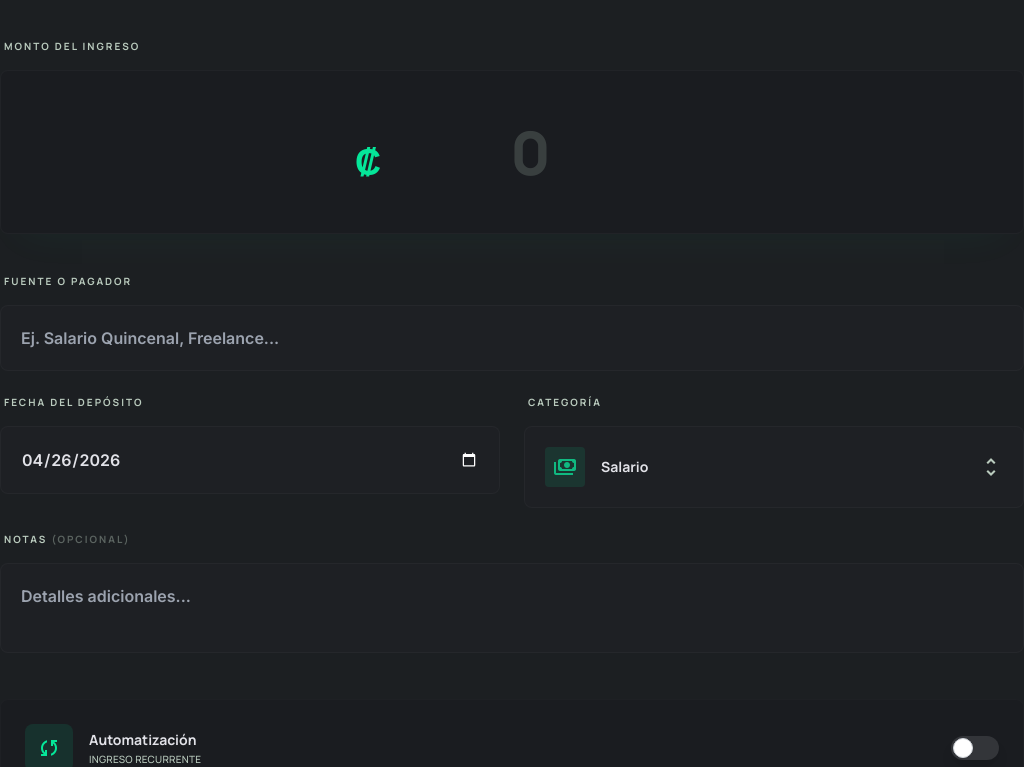
IncomeRegistrationForm.vue › shows recurrence fields when toggle is on
This screenshot has width=1024, height=767.
Click the checkbox with test id "income-recurring-toggle" at (975, 748), box [951,736,999,760]
(page scrolled)
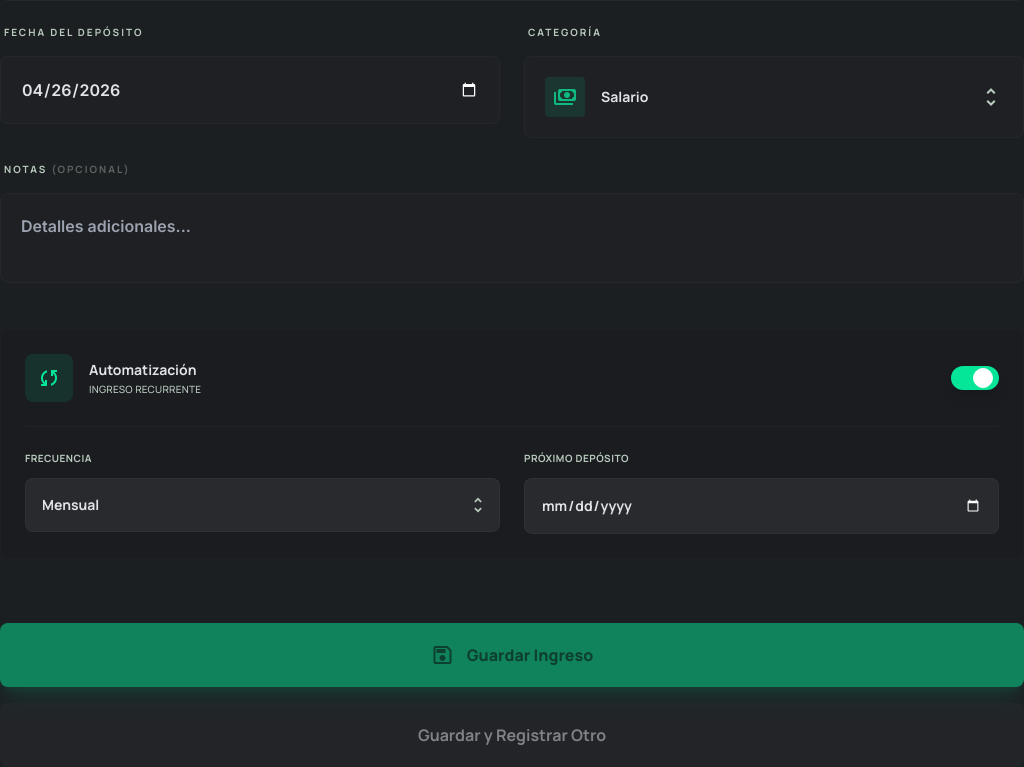
Check: the element showing "Frecuencia Próximo Depósito" is shown, box [25,426,999,534]
Check: the text "Frecuencia" is shown, box [25,451,92,465]
